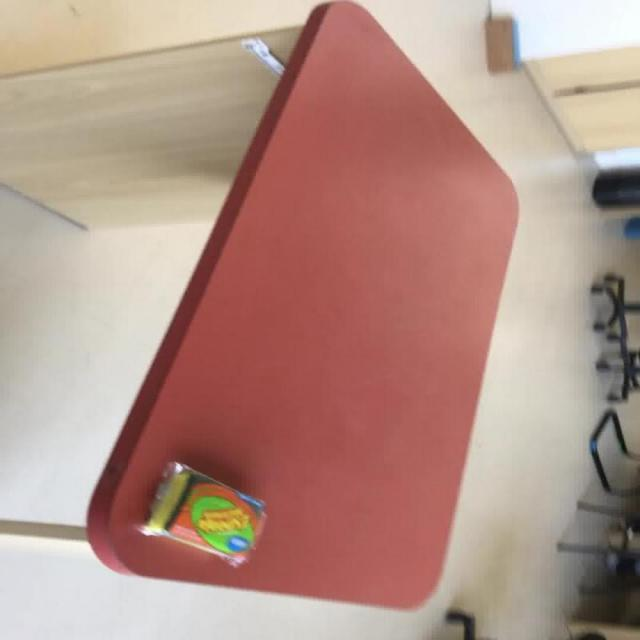Sponge: (83, 0, 520, 610), (138, 460, 266, 567)
